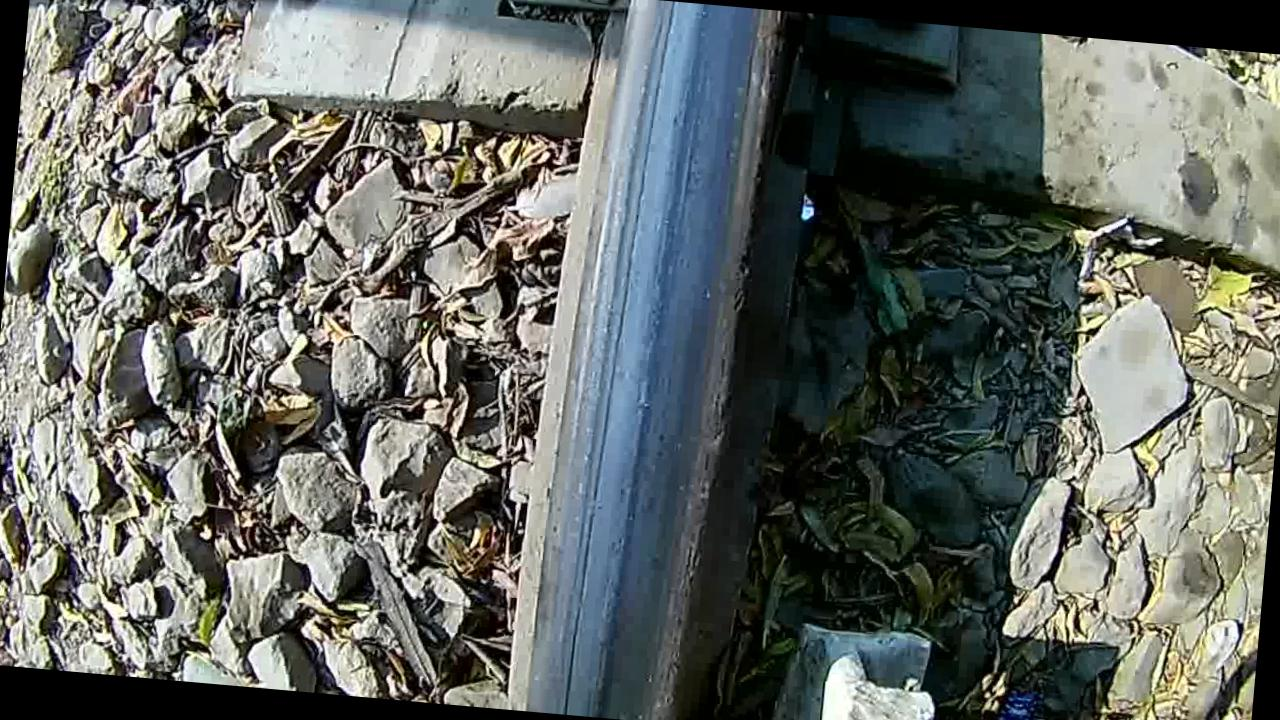clip_missing: (490, 0, 779, 720)
